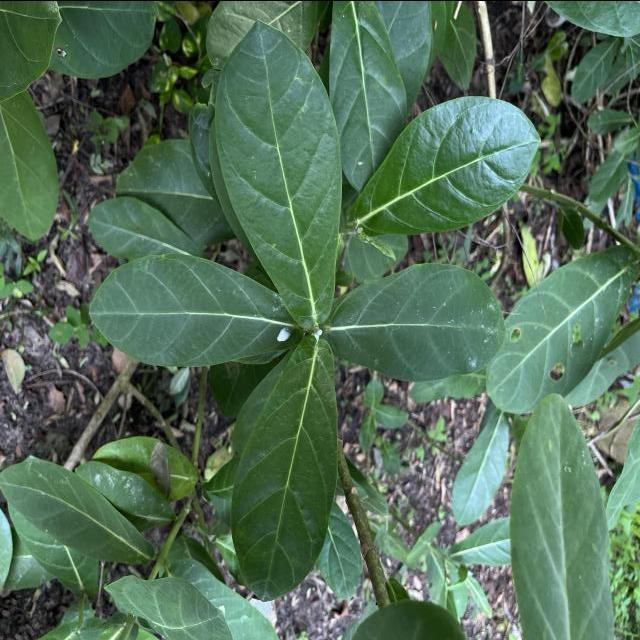Calotropis gigantea: (212, 17, 344, 330), (338, 91, 543, 239), (230, 331, 340, 603), (86, 244, 306, 368), (485, 242, 640, 414), (322, 259, 508, 383), (0, 455, 153, 565), (328, 0, 409, 191)
